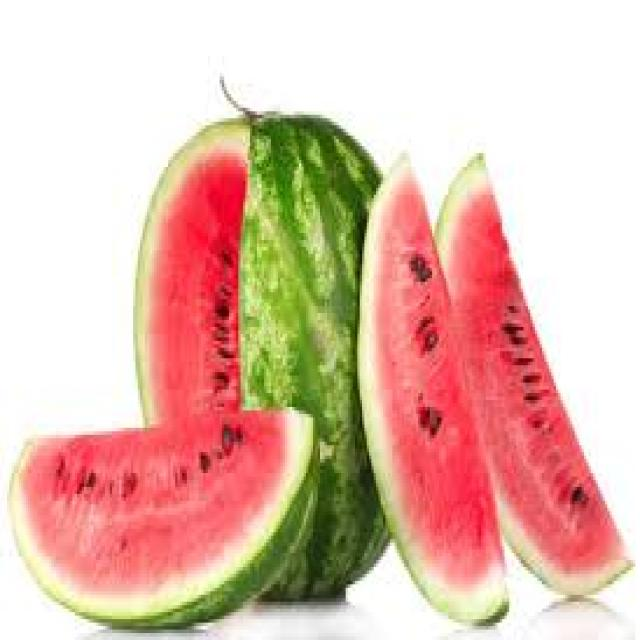watermelon: (131, 73, 392, 602), (432, 150, 633, 594), (355, 150, 509, 626), (5, 403, 320, 630)
